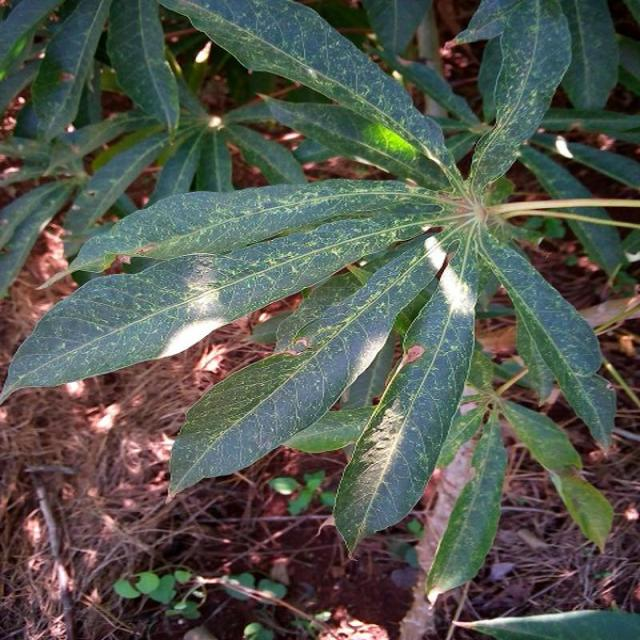cassava leaf: (2, 0, 624, 602)
